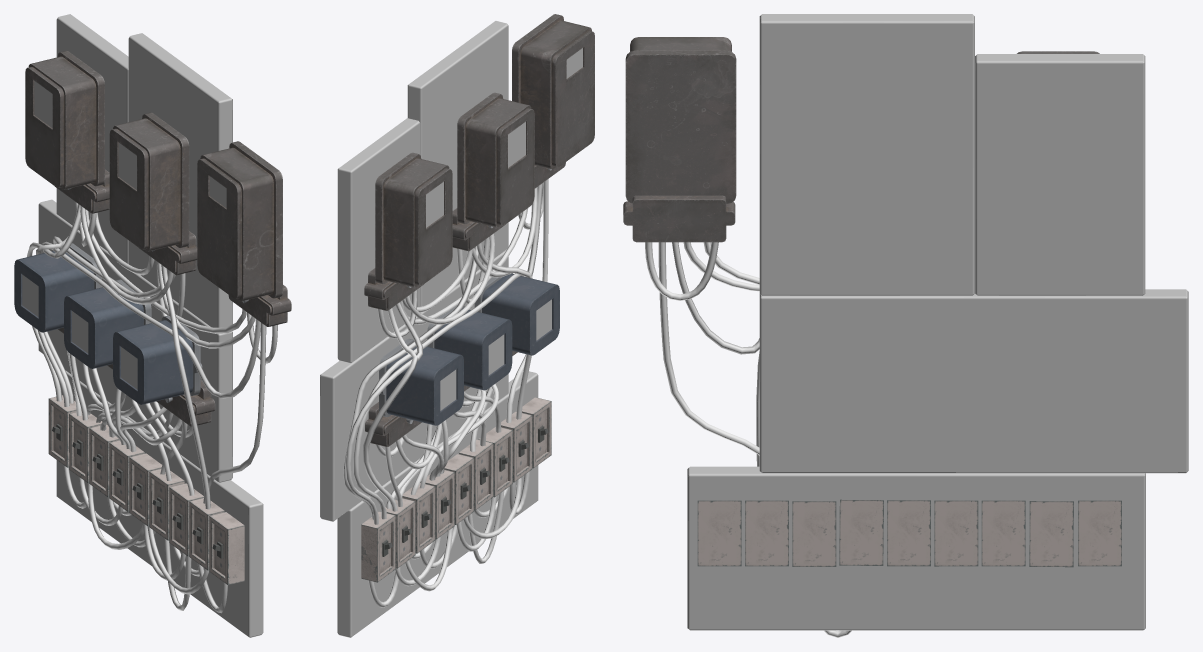
Rendered from ElectricalBoard_B.fbx.
The picture shows the model from 3 angles, left to right: view 1: azimuth 30°, elevation 25°; view 2: azimuth 150°, elevation 25°; view 3: azimuth 270°, elevation 25°; orthographic projection. The views are drawn at different scales.
Parts seen in each view (by area): view 1: ElectricalBoard_B; view 2: ElectricalBoard_B; view 3: ElectricalBoard_B.
Part boxes in pixels (x1,y1,x2,y2): ElectricalBoard_B: (14,14,291,637); ElectricalBoard_B: (320,14,594,637); ElectricalBoard_B: (623,14,1188,637).
Size of the model in its own units: 20.34 by 131 by 107.
